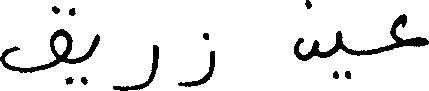X: (0, 1, 70, 89), (180, 28, 214, 90), (116, 40, 157, 90), (391, 9, 428, 54), (294, 0, 315, 65), (91, 29, 99, 60), (337, 26, 341, 83)
